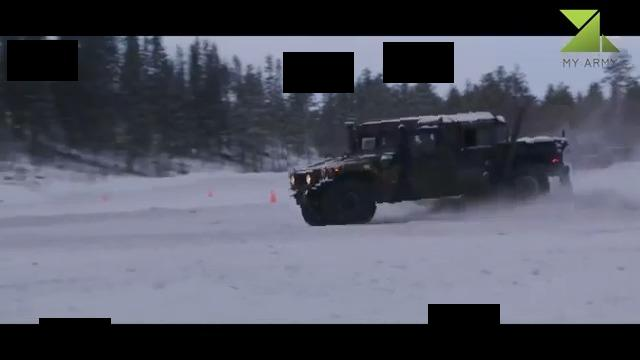MIL_HMMWV: (287, 109, 573, 224)
